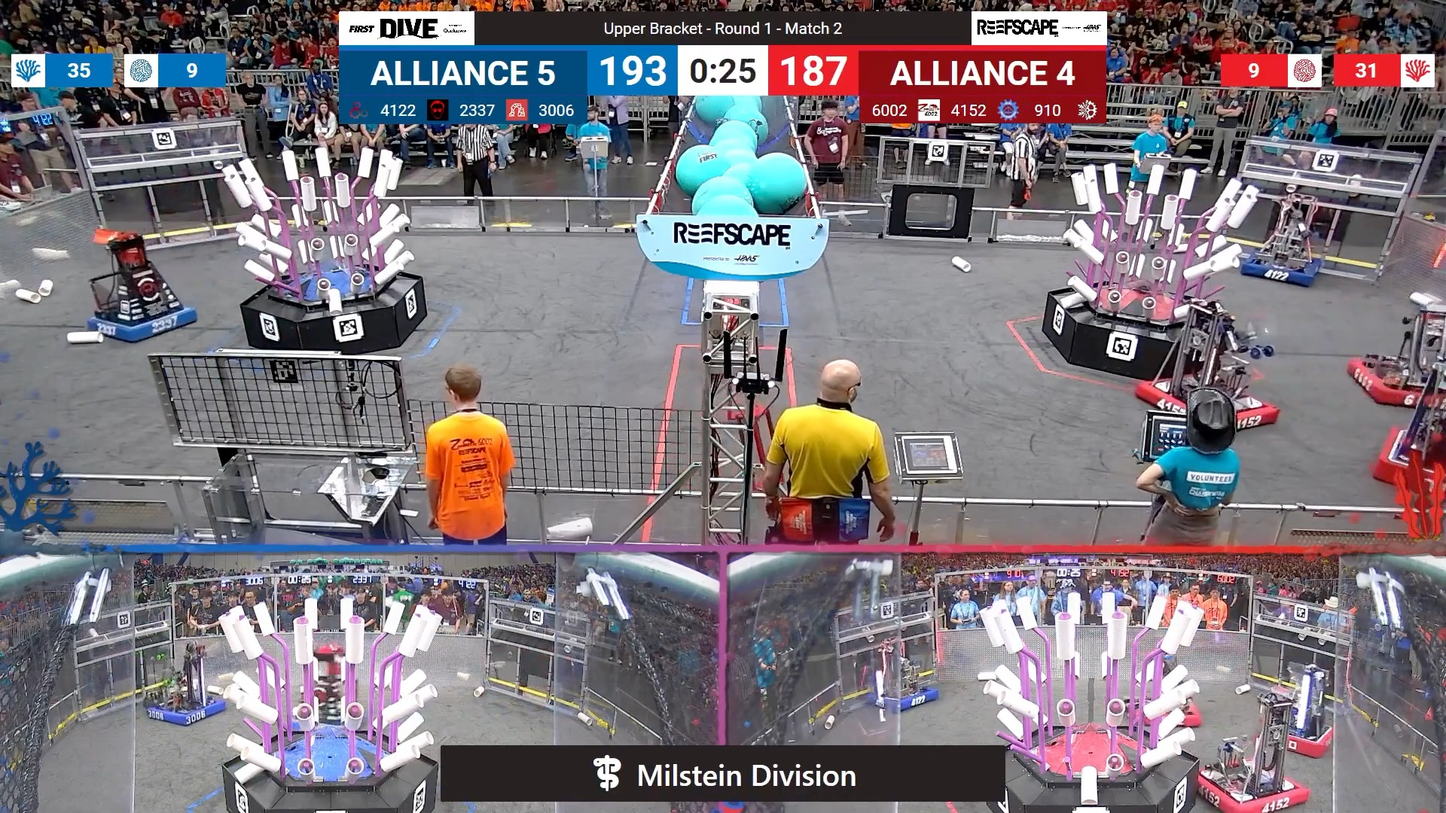bumpers: (1142, 372, 1287, 435), (1187, 763, 1313, 812), (82, 299, 206, 348), (1371, 421, 1445, 503), (1342, 356, 1444, 413), (1231, 248, 1332, 290), (139, 690, 235, 732), (1260, 716, 1344, 760), (1125, 693, 1206, 731), (865, 684, 944, 715)
